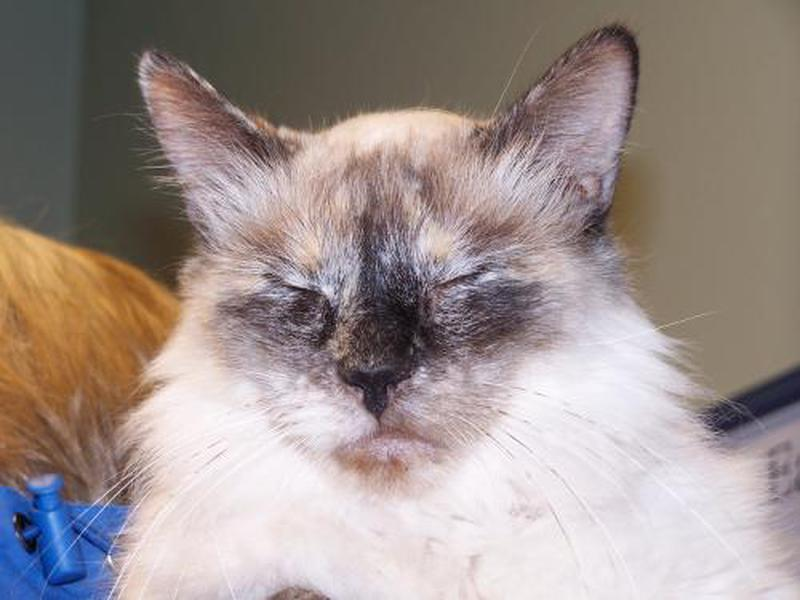cat: (104, 33, 690, 594)
